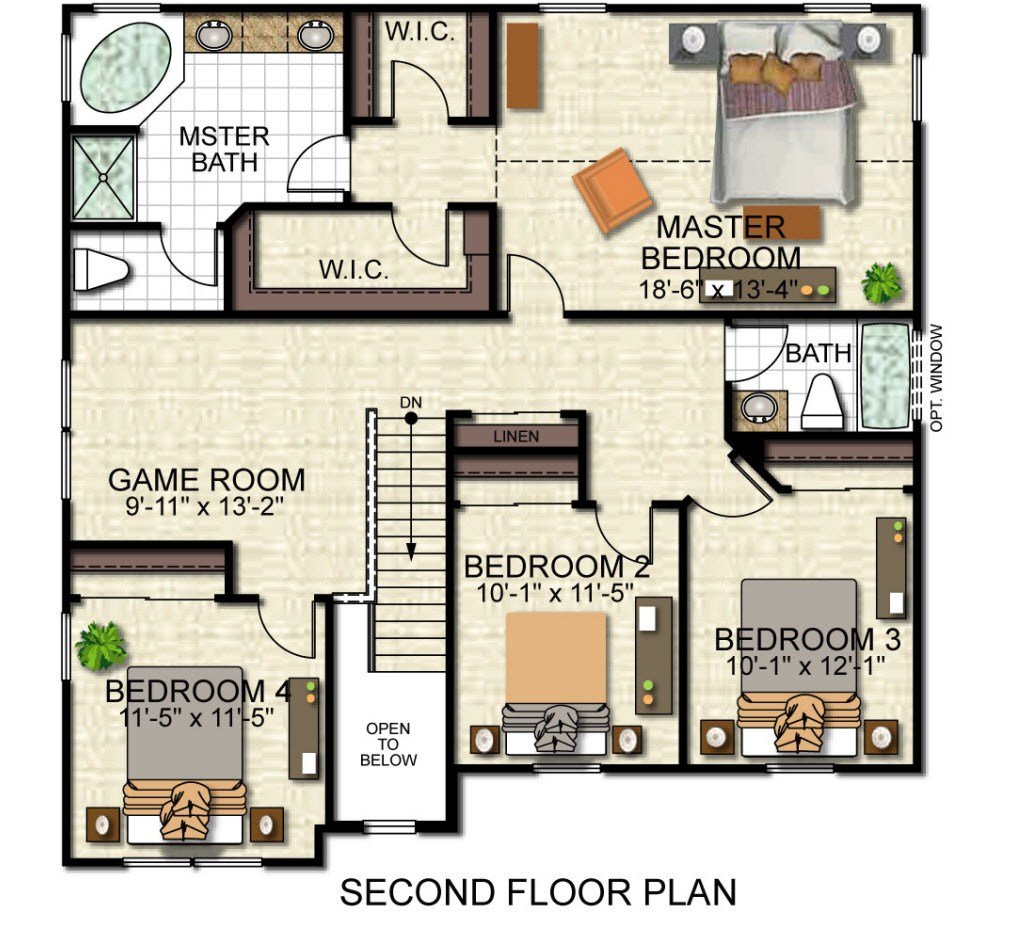door: (155, 229, 222, 290), (386, 53, 453, 114), (387, 213, 454, 274), (501, 246, 568, 307), (729, 321, 796, 382), (591, 507, 658, 568), (253, 605, 320, 666), (282, 132, 340, 198)
room: (487, 2, 924, 319), (63, 538, 333, 868), (679, 432, 924, 772), (445, 453, 687, 775), (62, 6, 351, 210), (724, 312, 922, 440), (62, 222, 231, 317)
window: (123, 855, 263, 870), (61, 359, 72, 502), (90, 1, 161, 18), (536, 1, 607, 17), (801, 1, 872, 17), (909, 52, 924, 122), (765, 761, 835, 776), (60, 34, 74, 102), (362, 819, 415, 835), (61, 612, 73, 681), (534, 763, 601, 772)
